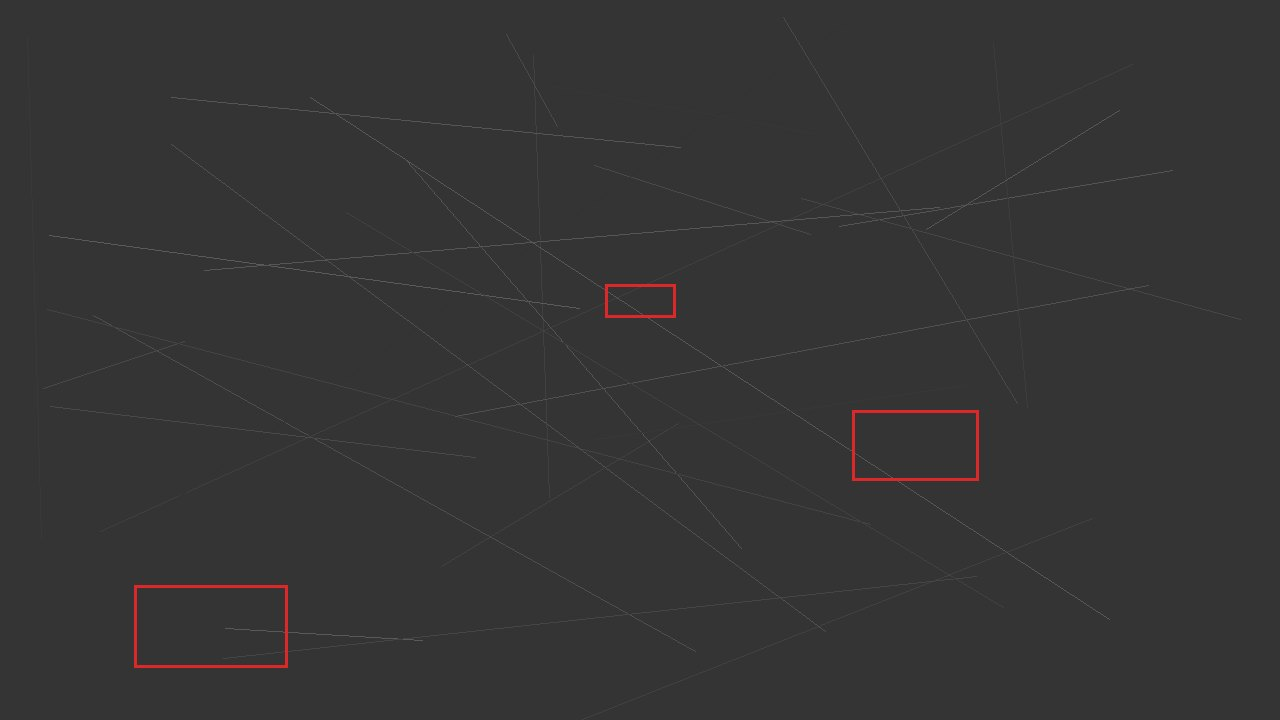D20: (134, 585, 287, 667)
D40: (852, 410, 978, 480), (605, 284, 675, 317)
